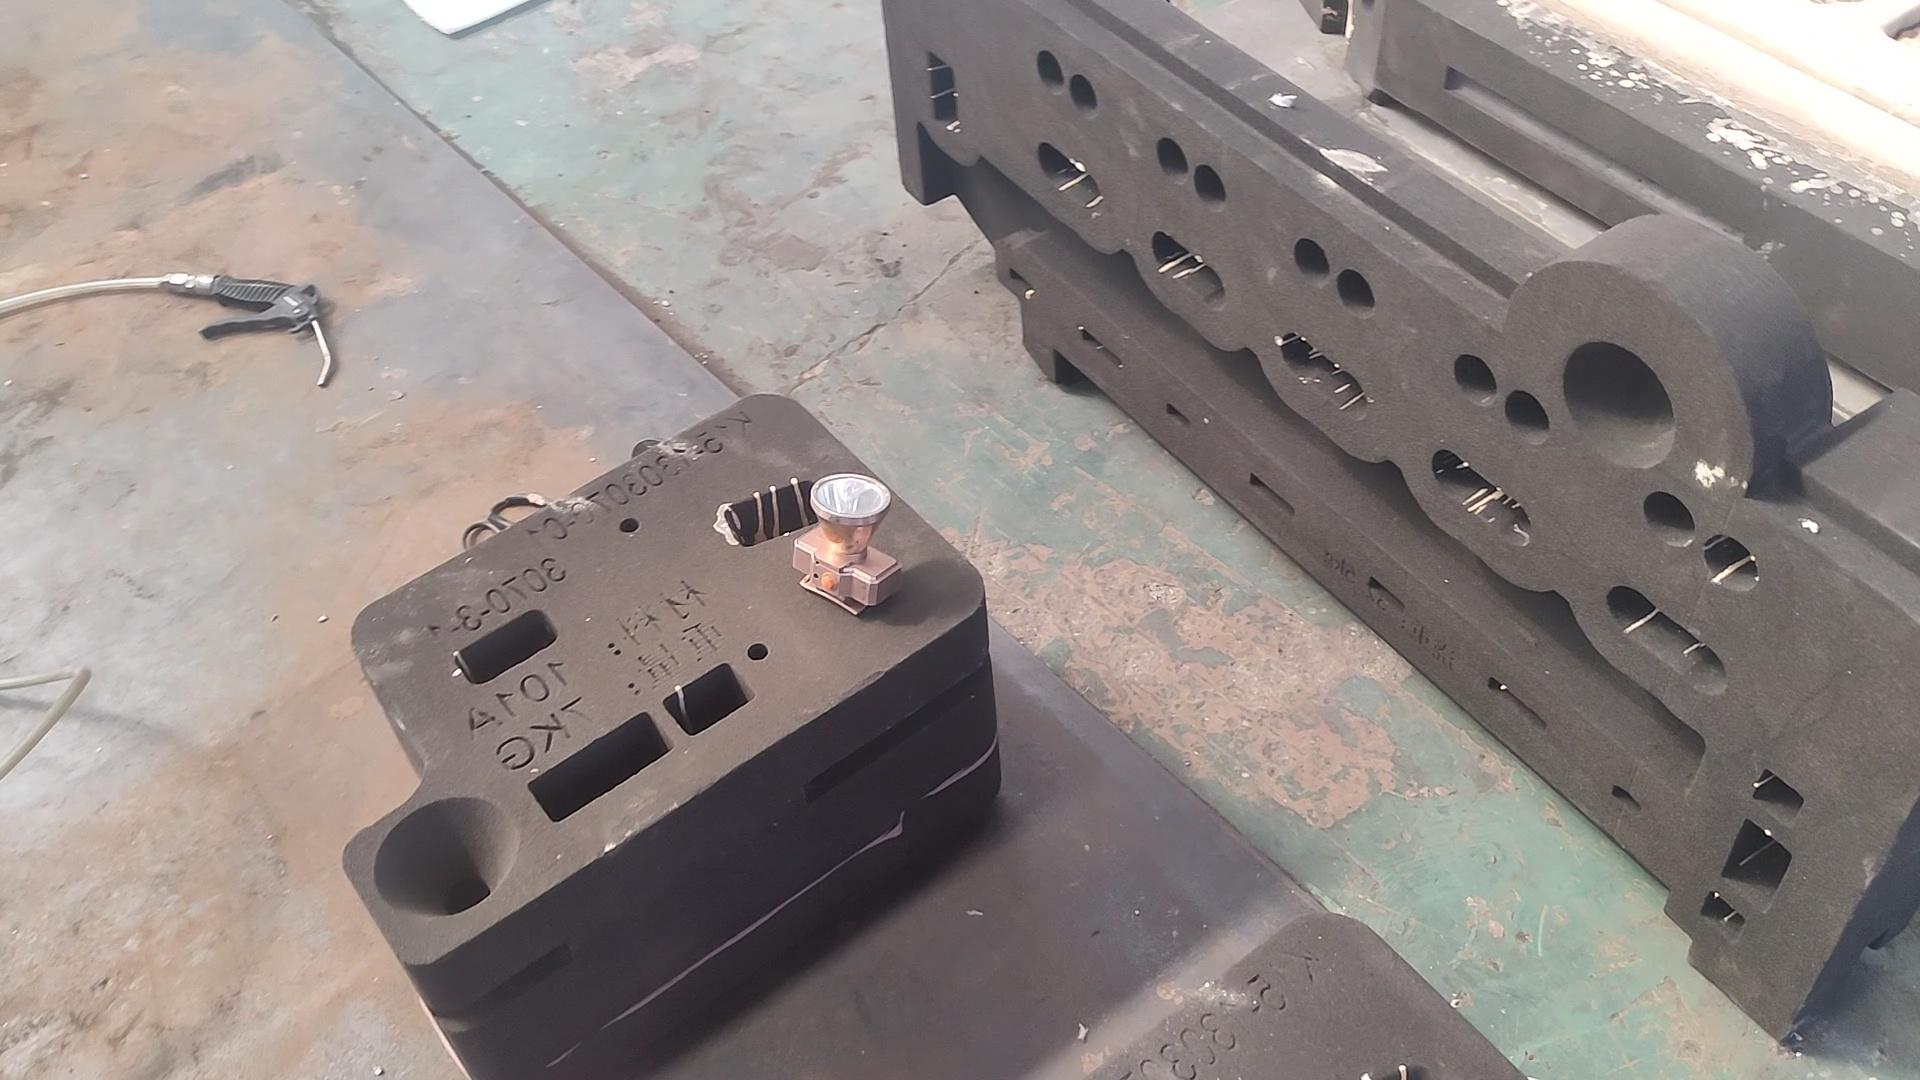pouring hole: (372, 796, 520, 916), (1563, 342, 1675, 469)
